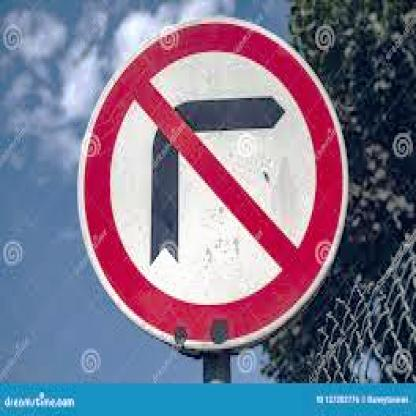No right turn: (72, 16, 346, 337)
